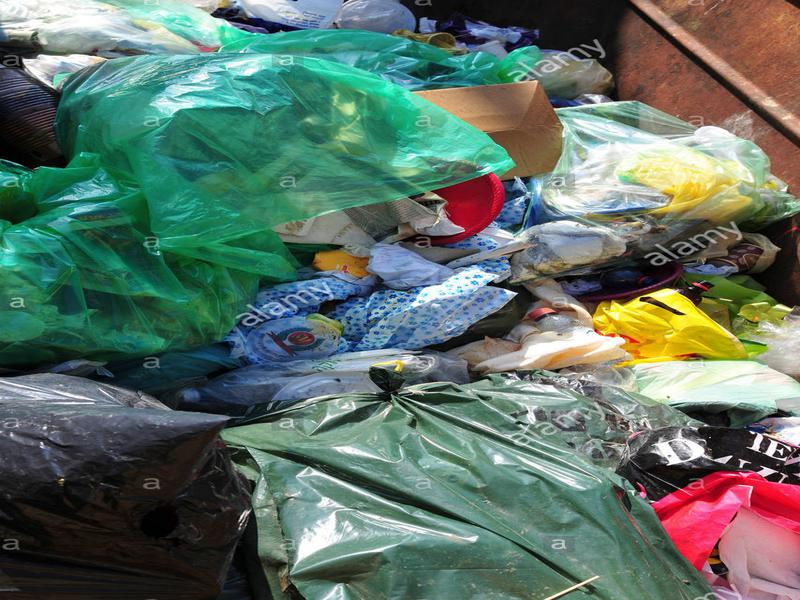plastic: (221, 368, 723, 600), (58, 47, 515, 252), (1, 360, 269, 600), (1, 155, 298, 353), (547, 87, 800, 225), (644, 462, 800, 600), (328, 252, 524, 351), (595, 286, 753, 364), (1, 1, 217, 55), (477, 319, 635, 377)
